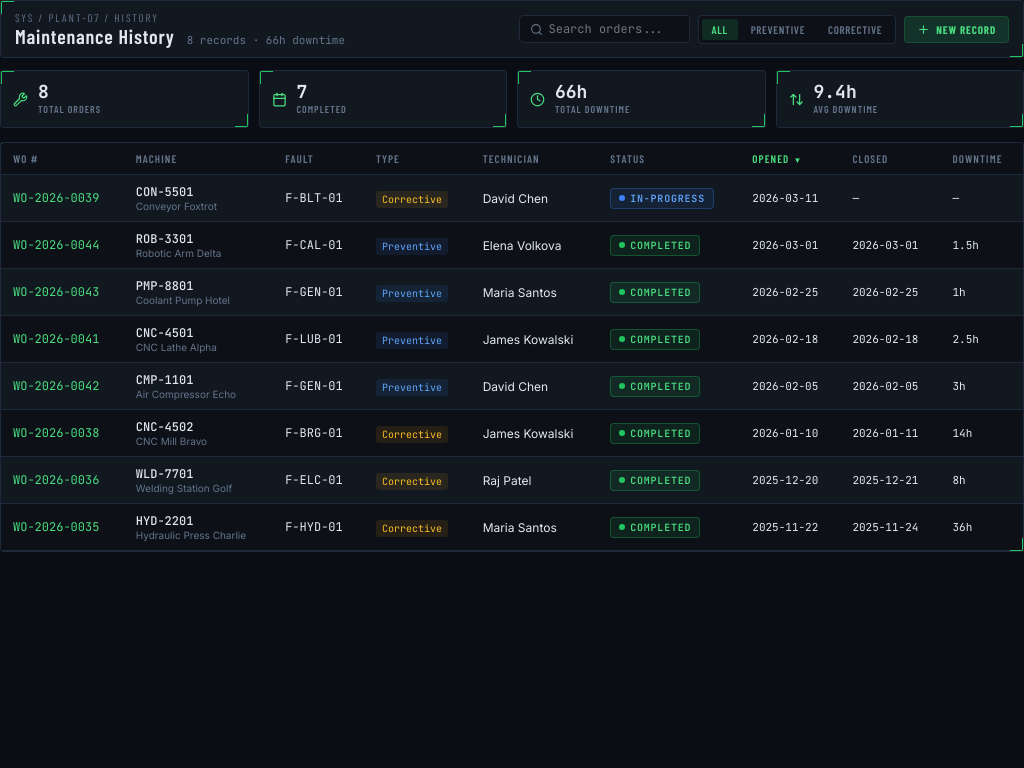
Test case: HistoryLog › filters by maintenance type
This screenshot has width=1024, height=768.
Note: The type filter renders Corrective as a button
Click the button "Corrective" at (855, 29), box [818, 18, 892, 40]
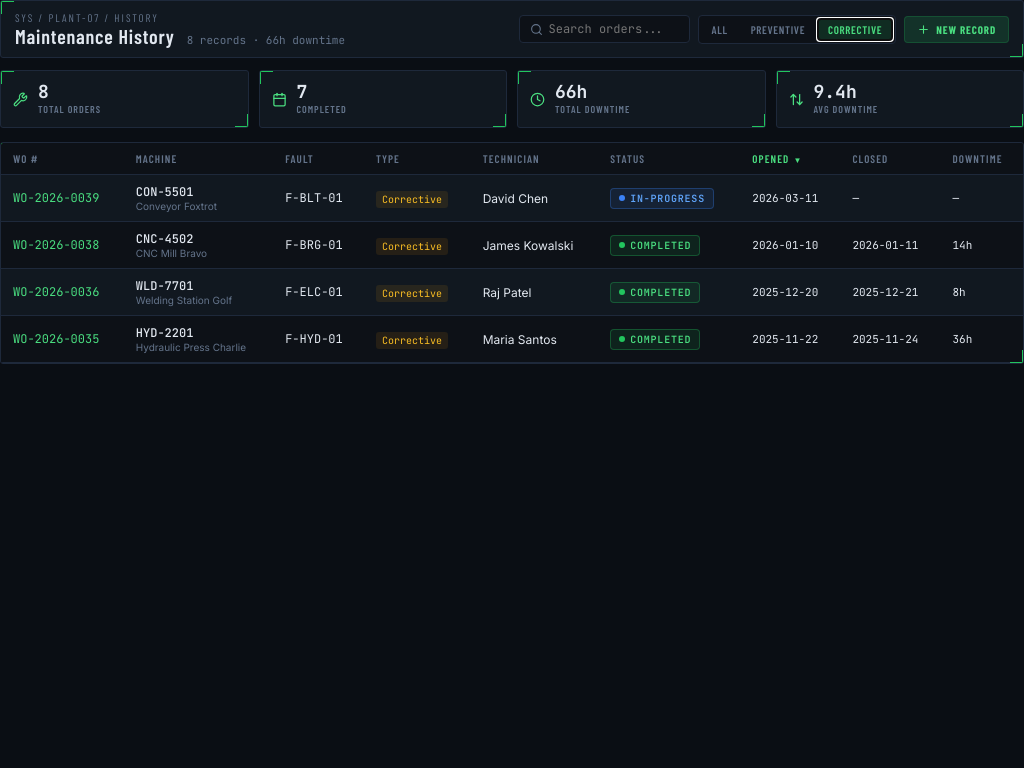
Expected: the text "WO-2026-0038" is shown, [13, 237, 99, 253]
Now the text "WO-2026-0041" is gone
